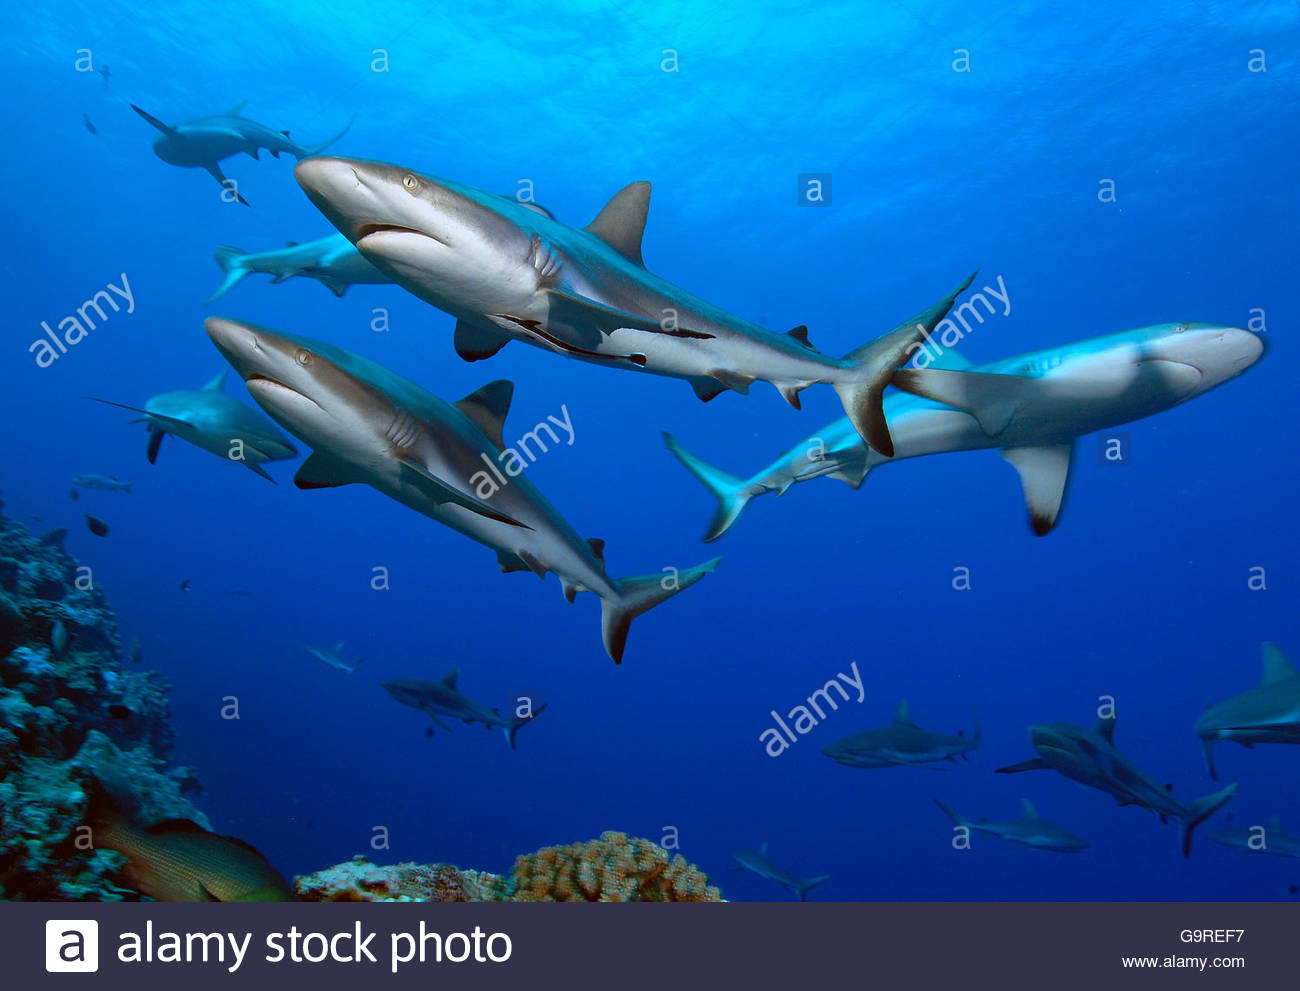Carcharhinus_amblyrhynchos: (285, 133, 925, 468), (201, 308, 695, 693), (685, 322, 1273, 563)
